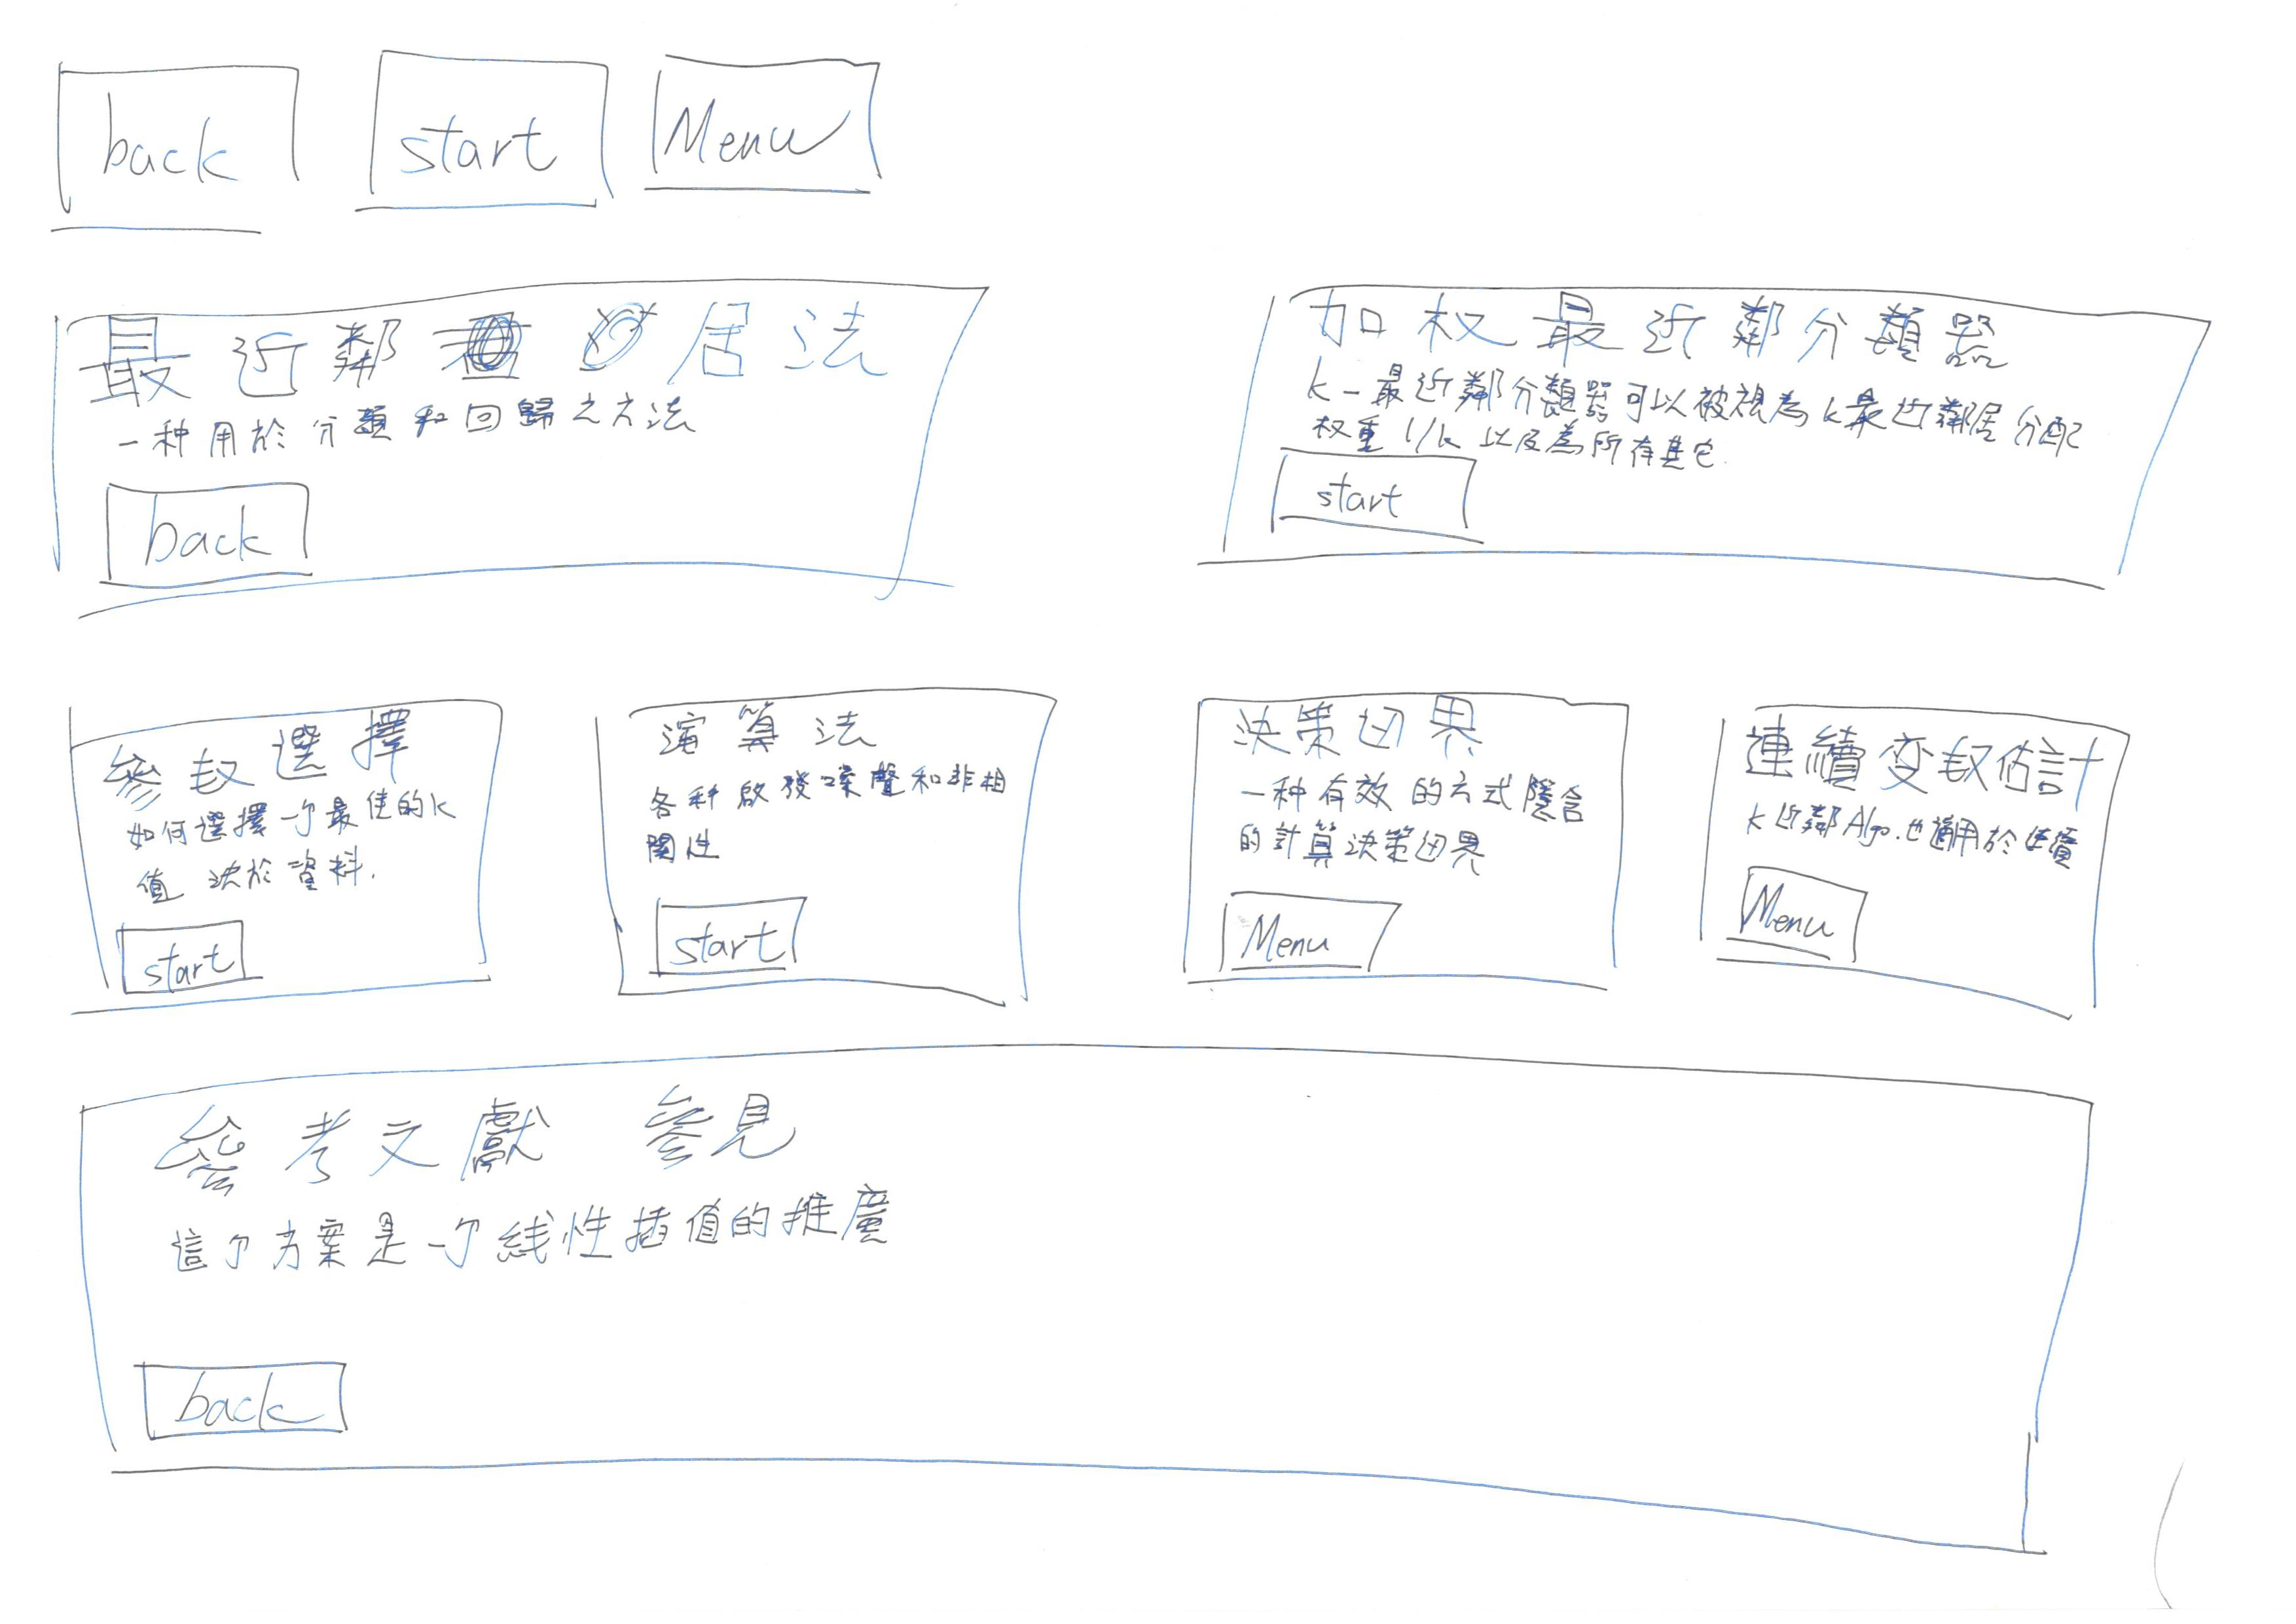back: (37, 49, 338, 267), (81, 468, 366, 596), (118, 1338, 389, 1455)
double: (1201, 234, 2263, 610), (16, 274, 1041, 633)
menu: (629, 40, 907, 250), (1210, 877, 1431, 1000), (1721, 861, 1893, 968)
quadruple: (563, 656, 1095, 1037), (39, 671, 564, 1039), (1677, 677, 2162, 1039), (1171, 663, 1663, 1004)
row: (0, 1051, 2296, 1587), (0, 626, 2296, 1069), (0, 262, 2296, 638), (5, 7, 2271, 255)
single: (32, 1021, 2185, 1612)
small-title: (1313, 281, 2045, 371), (105, 302, 883, 374), (172, 1107, 803, 1167), (93, 712, 422, 800), (1765, 728, 2096, 784), (1238, 696, 1487, 756), (642, 707, 888, 750)
start: (336, 33, 636, 239), (1259, 438, 1489, 550), (638, 888, 823, 986), (102, 919, 267, 1011)
text: (1317, 364, 2094, 462), (162, 1204, 988, 1274), (1241, 761, 1600, 895), (105, 394, 733, 469), (125, 789, 473, 910), (643, 766, 1011, 858), (1767, 791, 2078, 854)
